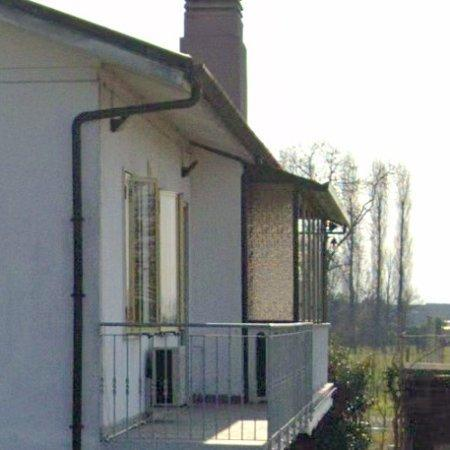chimneys: (180, 0, 247, 120)
